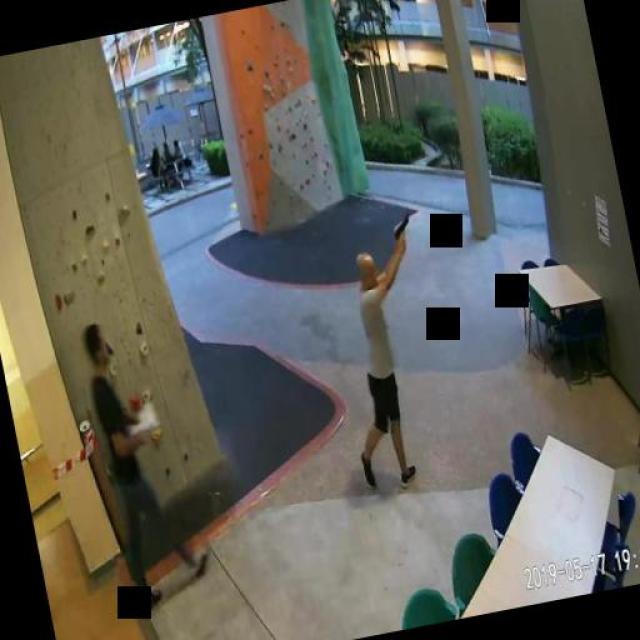gun: (390, 214, 412, 250)
